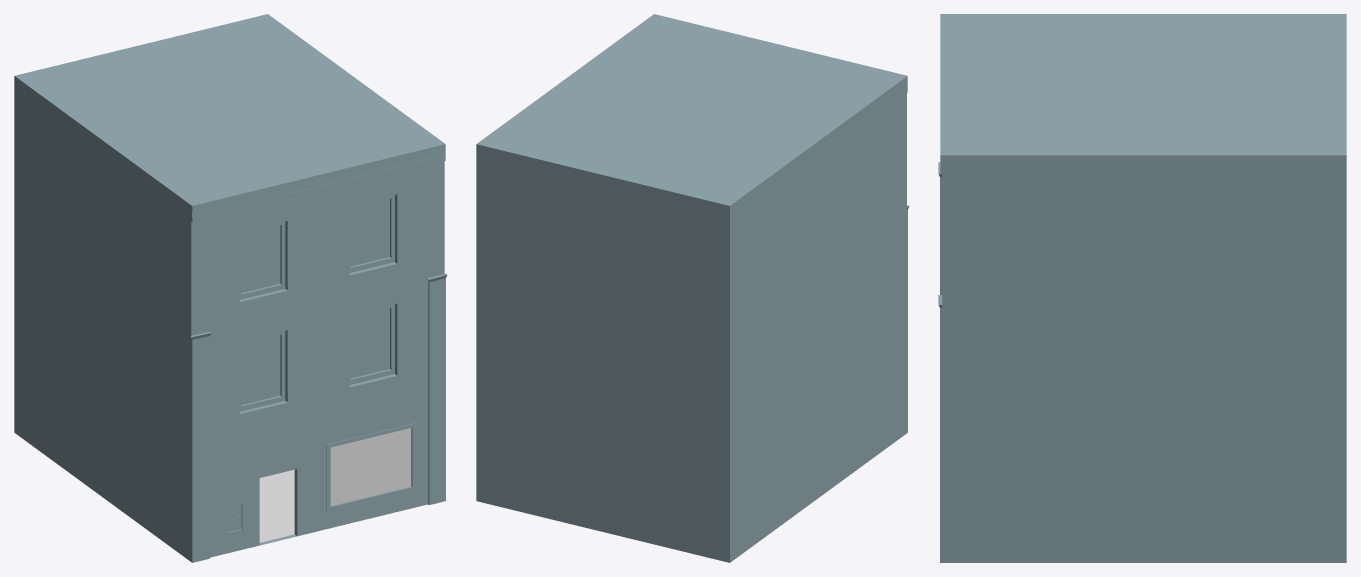
The model's file is EnterableBuilding1.fbx.
3 renders of one model, left to right at view 1: azimuth 30°, elevation 25°; view 2: azimuth 150°, elevation 25°; view 3: azimuth 270°, elevation 25°, orthographic. The views are drawn at different scales.
Visible parts, largest first — view 1: OuterBuilding, Window, InsideBuilding; view 2: OuterBuilding; view 3: OuterBuilding.
Part boxes in pixels (x1,y1,x2,y2): OuterBuilding: (14,14,447,562); Window: (330,428,411,505); InsideBuilding: (259,469,294,542); OuterBuilding: (476,14,909,562); OuterBuilding: (938,14,1346,562).
Size of the model in its own units: 434 by 580 by 526.
